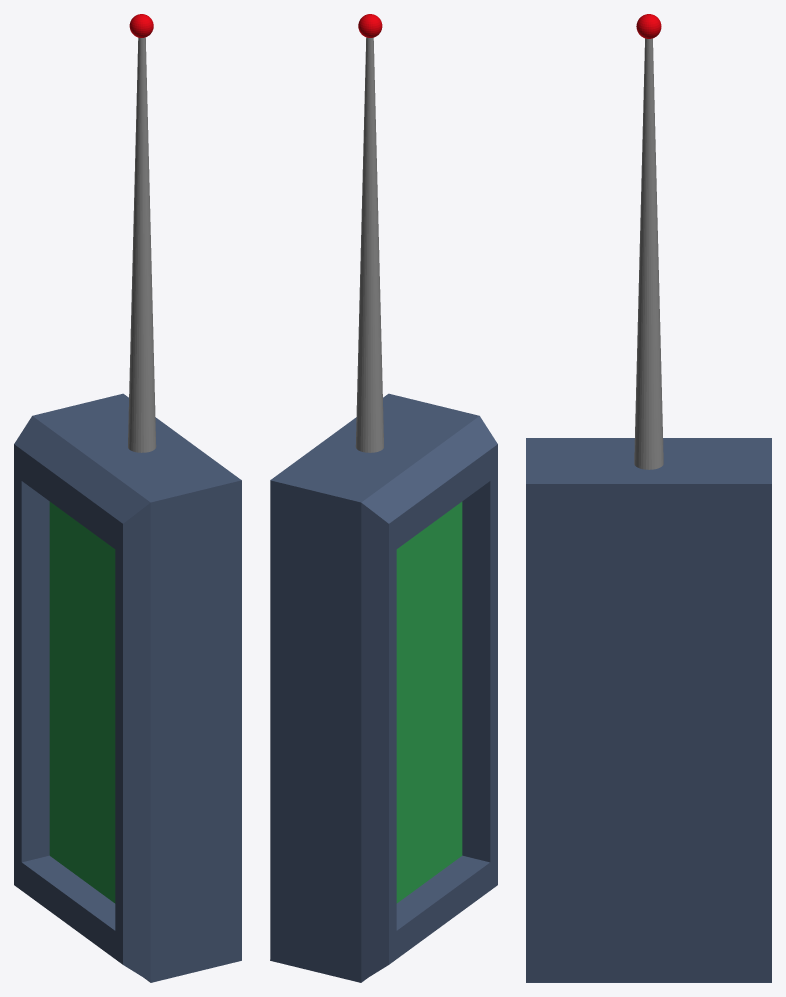
The model's file is Scanner.fbx.
3 renders of one model, left to right at view 1: azimuth 30°, elevation 25°; view 2: azimuth 150°, elevation 25°; view 3: azimuth 270°, elevation 25°, orthographic. The views are drawn at different scales.
Parts seen in each view (by area): view 1: Cube, Cylinder.001; view 2: Cube, Cylinder.001; view 3: Cube, Cylinder.001.
Boxes of the visible parts, x1,y1,x2,y2 form: Cube: (14, 393, 241, 982); Cylinder.001: (128, 37, 156, 452); Cube: (270, 393, 497, 982); Cylinder.001: (355, 37, 383, 452); Cube: (526, 438, 771, 982); Cylinder.001: (634, 38, 663, 469).
Bounding box in the file's own units: 38.75 × 296 × 69.68.
